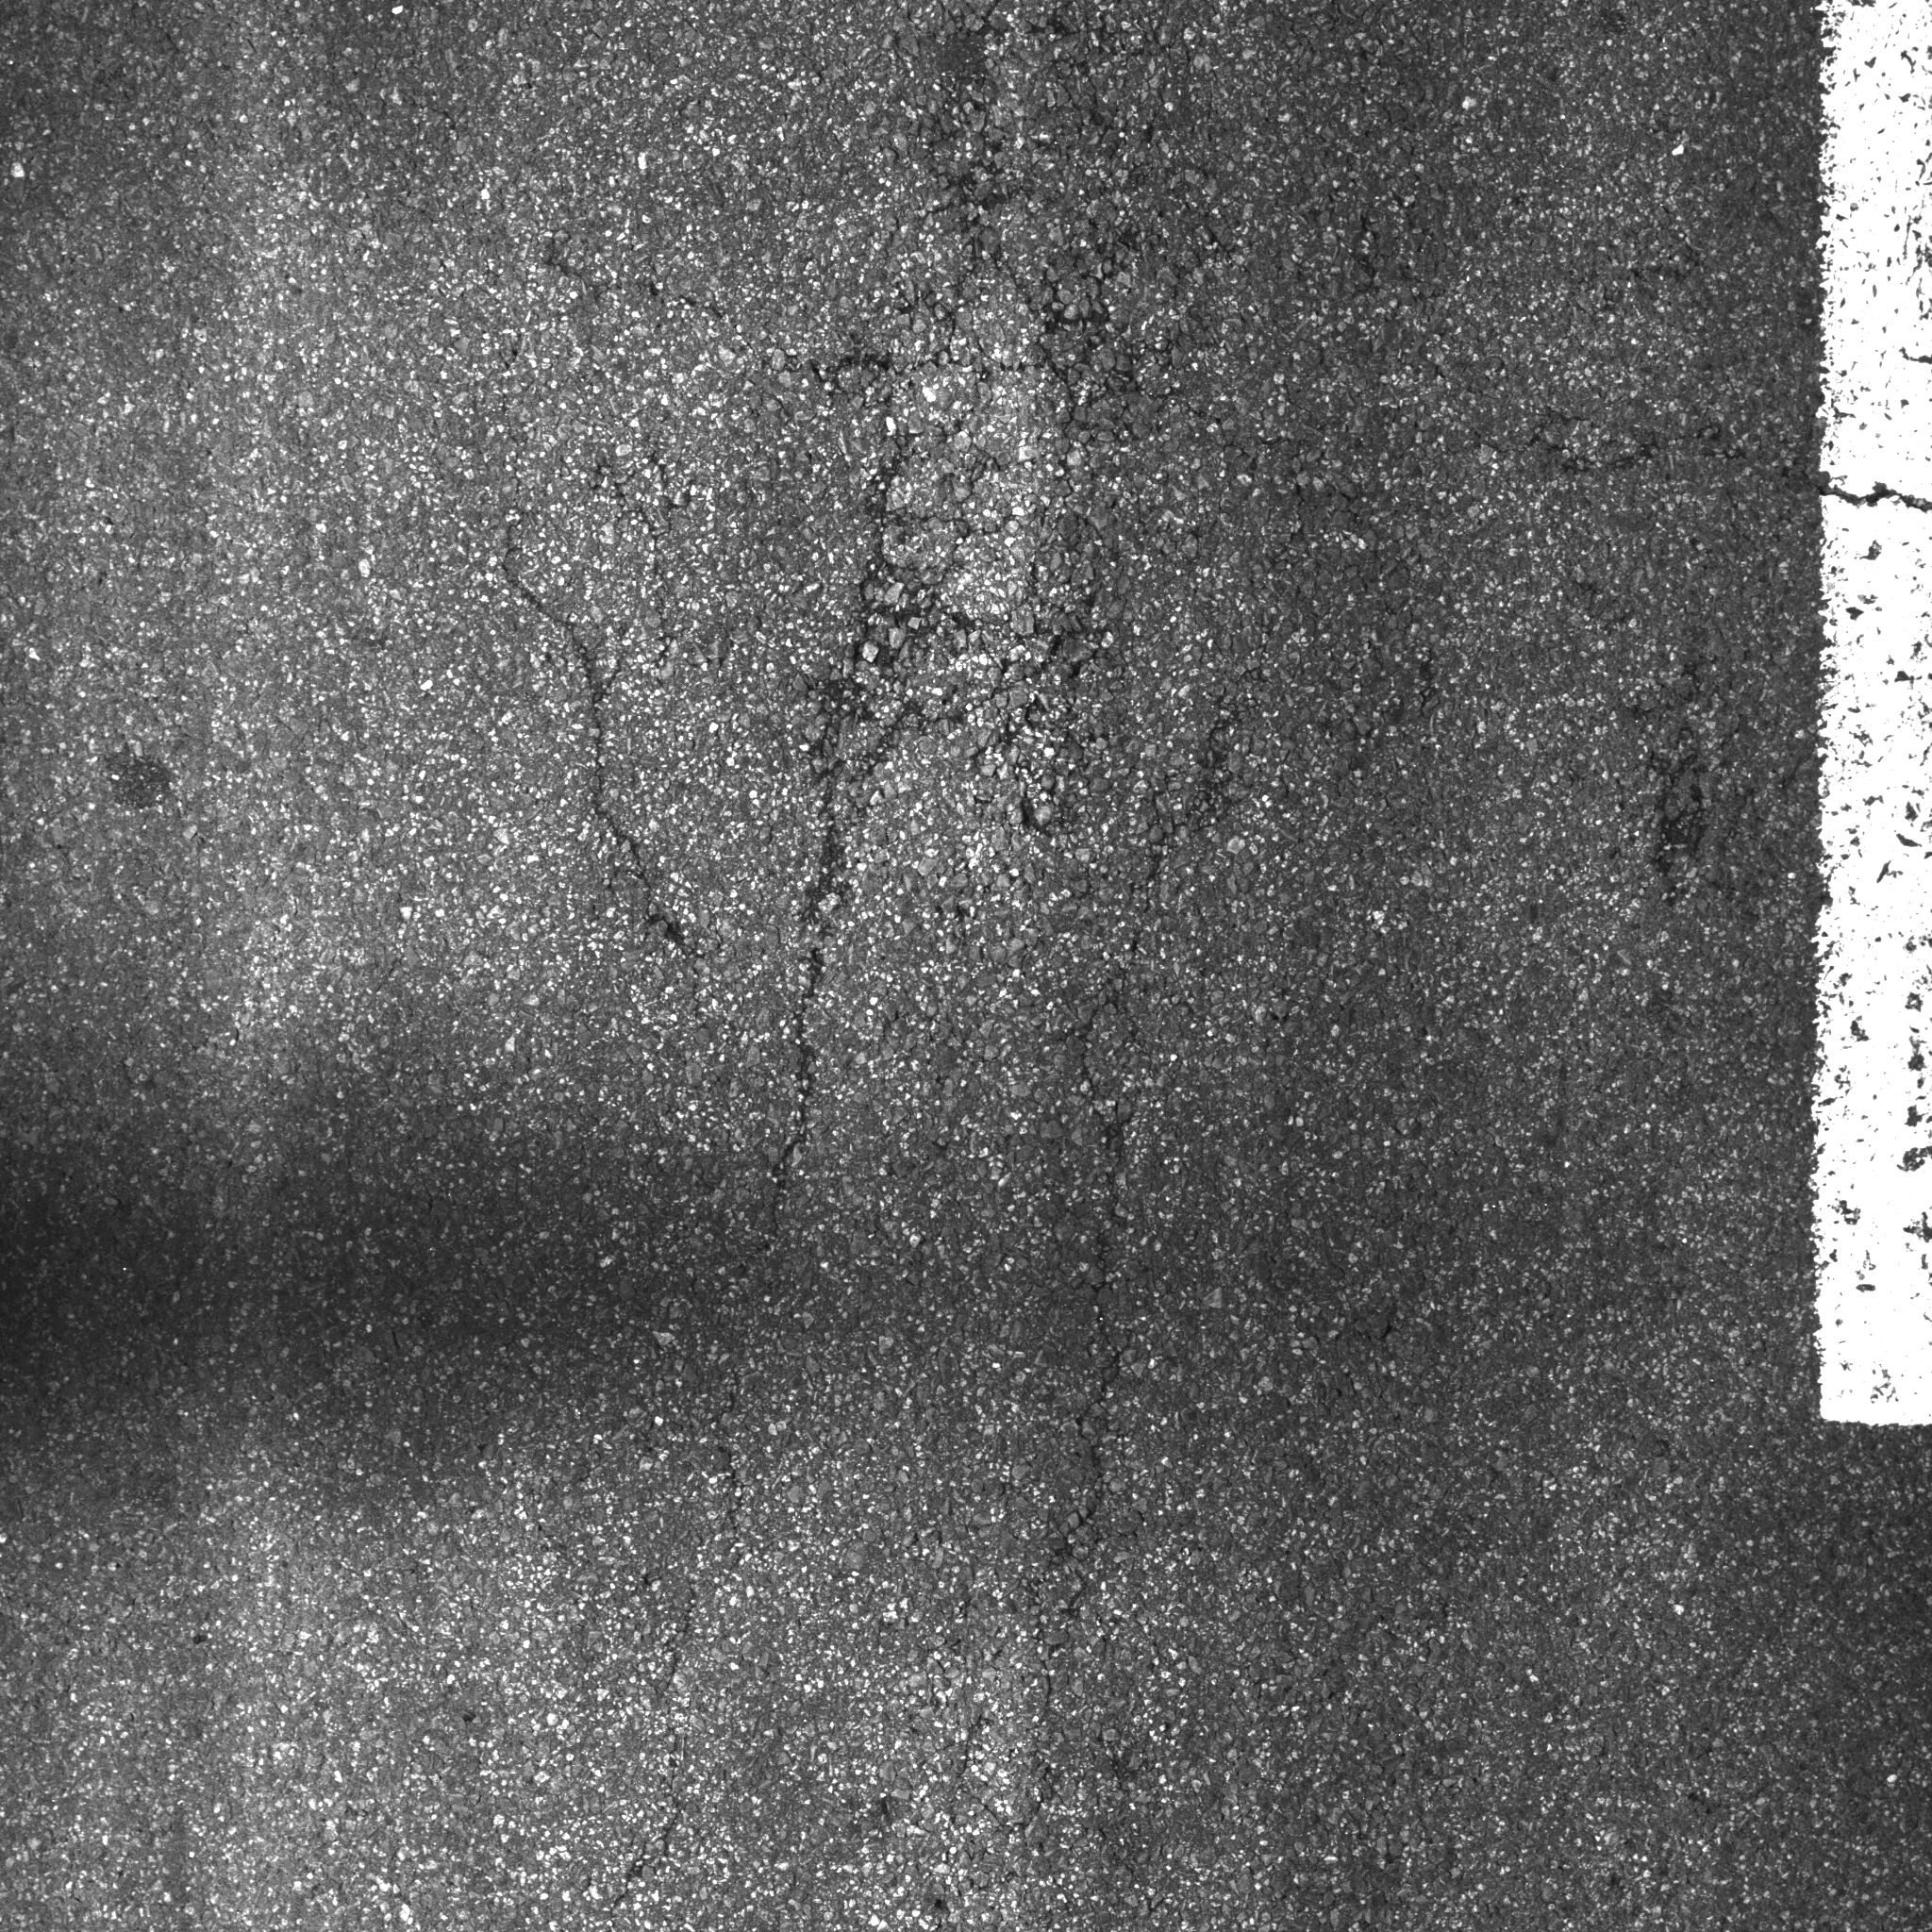alligator: (349, 25, 1920, 1596)
